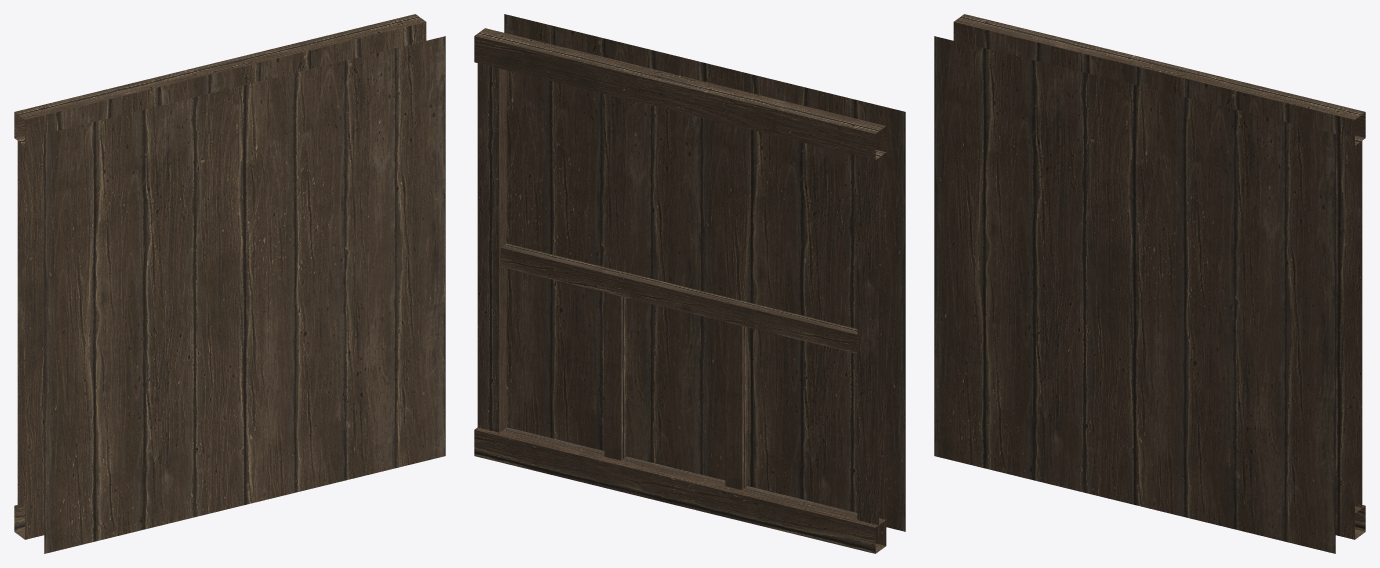
The model's file is ARC1010291.fbx.
3 views of the same model, side by side, from view 1: azimuth 30°, elevation 25°; view 2: azimuth 150°, elevation 25°; view 3: azimuth 330°, elevation 25° (orthographic).
Visible parts, largest first — view 1: smARC1010291; view 2: smARC1010291; view 3: smARC1010291.
Boxes of the visible parts, left/top/right/bottom form: smARC1010291: left=14, top=14, right=445, bottom=553; smARC1010291: left=474, top=14, right=905, bottom=553; smARC1010291: left=934, top=14, right=1365, bottom=553.
Bounding box in the file's own units: 268 × 268 × 34.9.
Materials: 1 (1 with a texture image).
